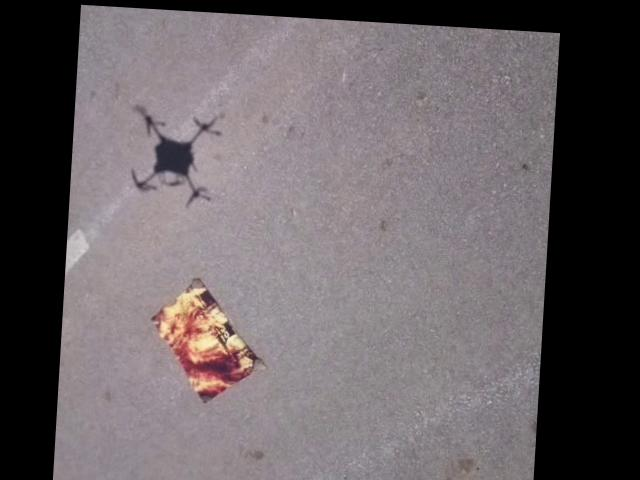fire-poster: (148, 271, 275, 404)
